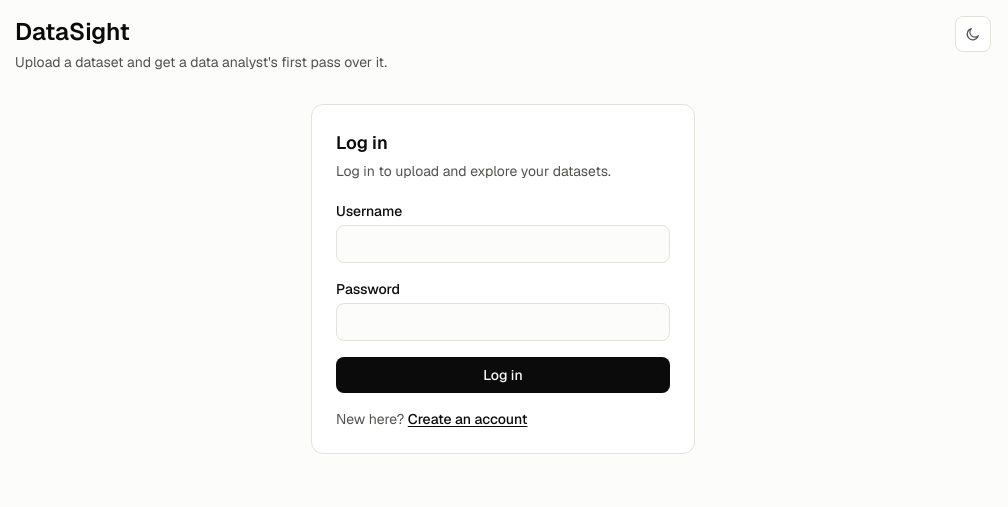
Test: shows why logging in failed
Step 1. Type "ada" into the field labelled "Username" → coordinates (503, 244), box [336,225,670,263]
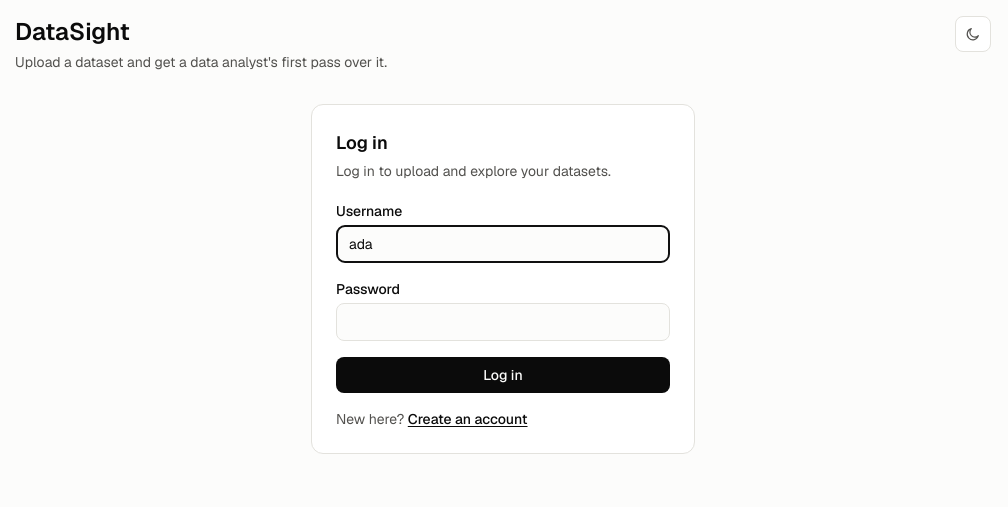
Step 2. Type "not the one" into the password field labelled "Password" → coordinates (503, 322), box [336,303,670,341]
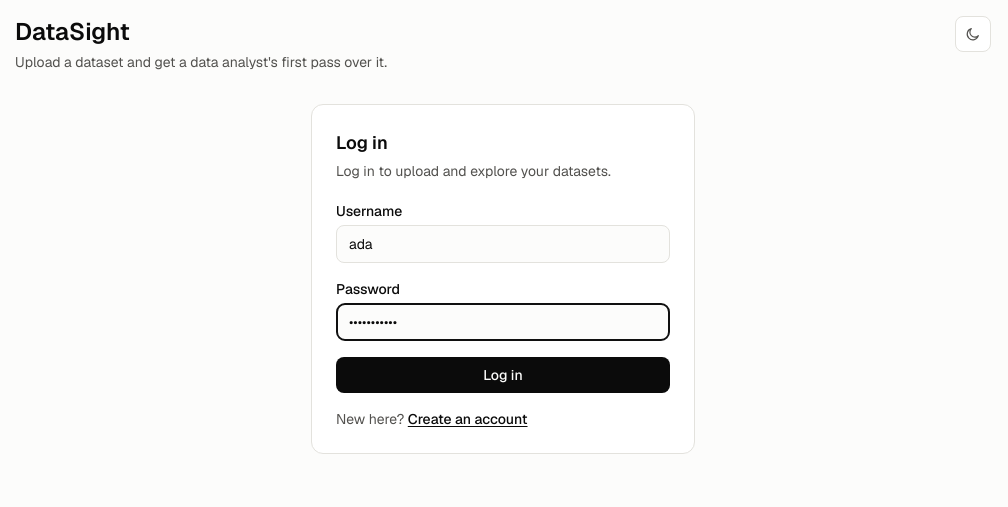
Step 3. Click the button "Log in" → coordinates (503, 375), box [336,357,670,393]
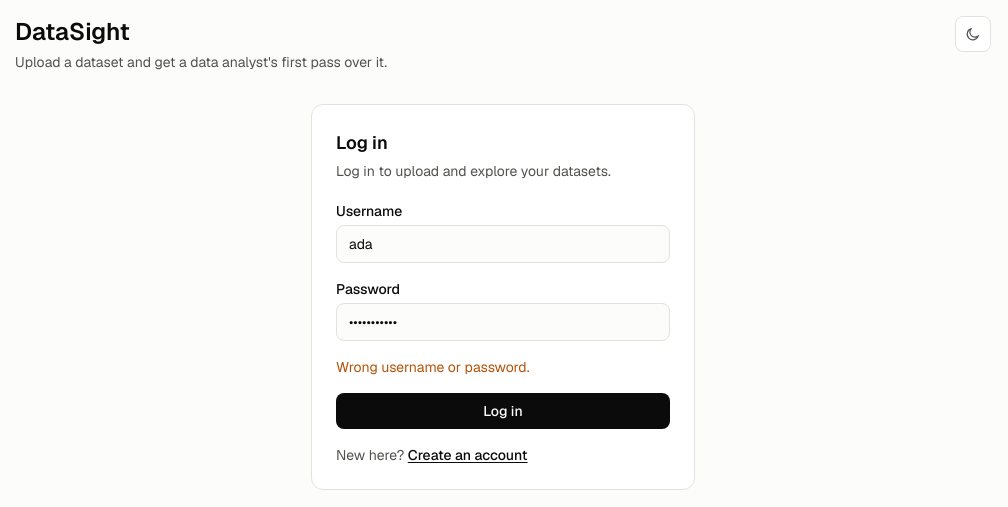
expect the text "Wrong username or password." is shown: met, box [336,358,530,376]
